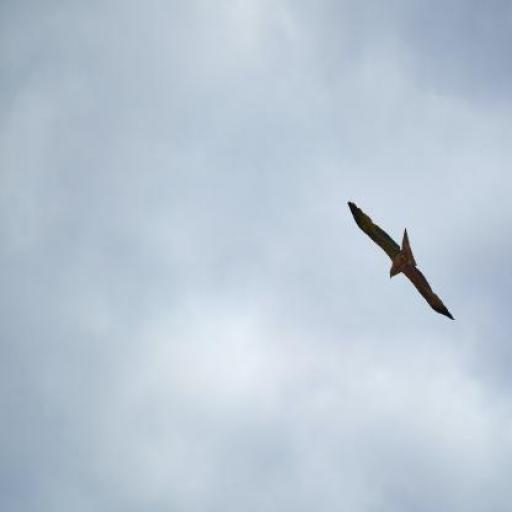bird: (347, 200, 455, 322)
